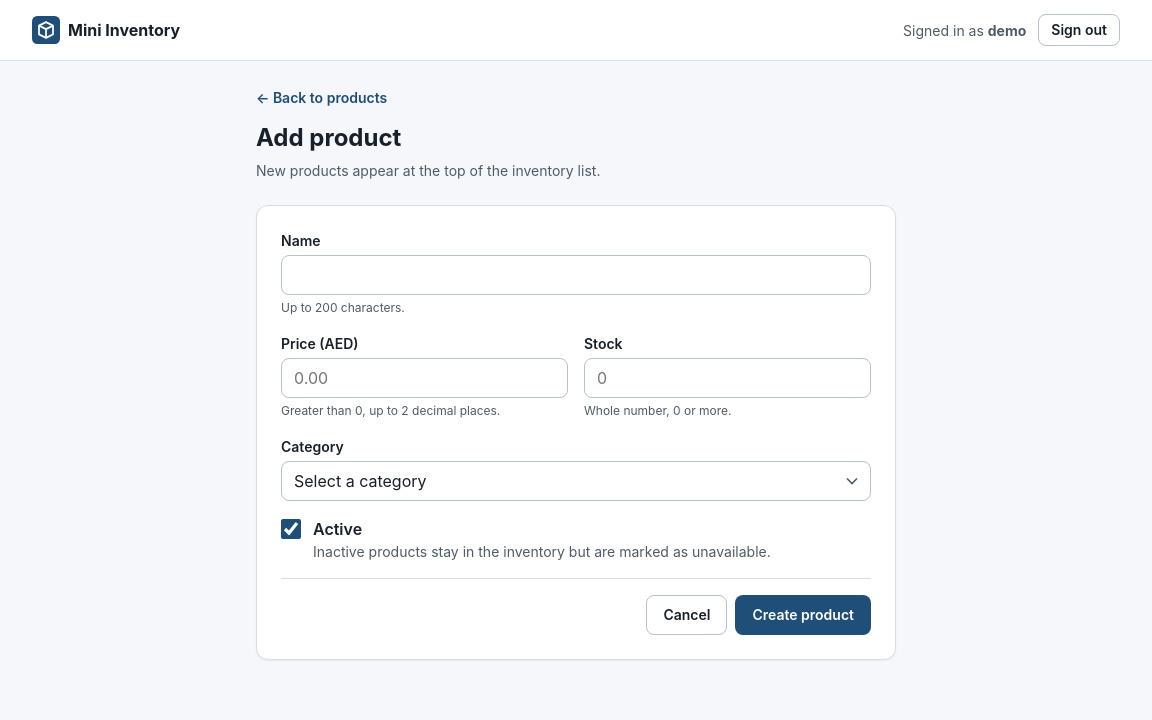
create product › sends a decimal-string price and integer stock/category, then shows success
The image size is (1152, 720).
Type "  Coffee Mug  " into the field labelled "Name" at (576, 275), box [281,255,871,295]
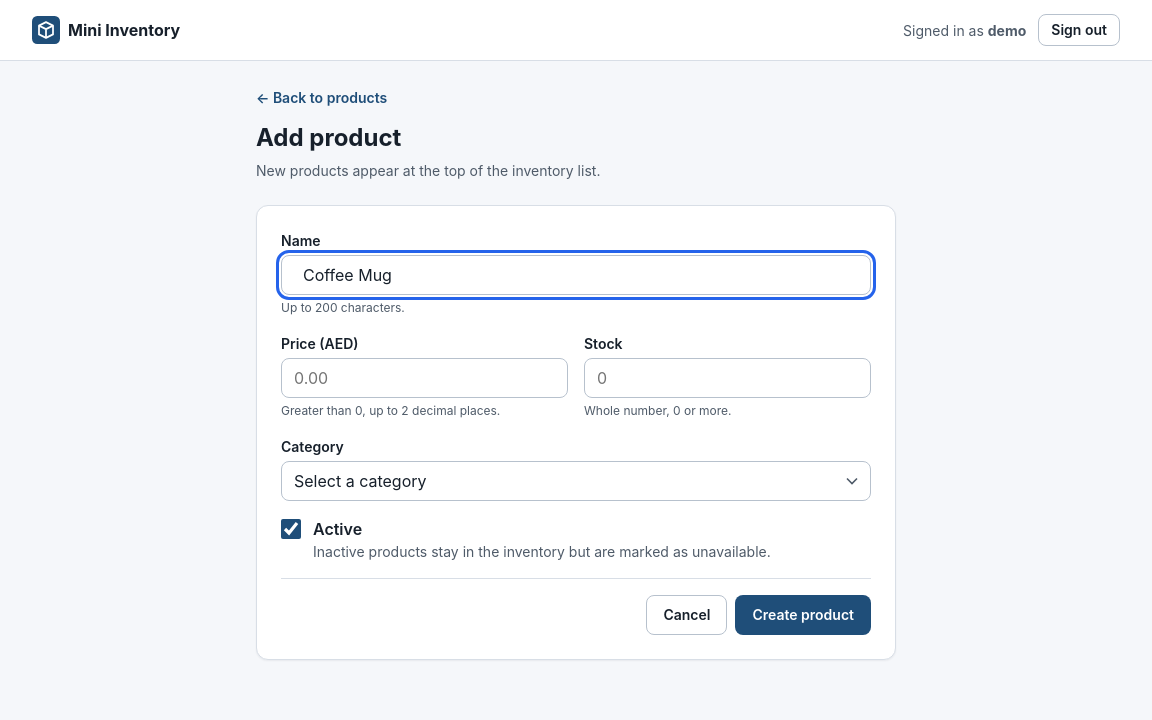
Type "24.5" into the field labelled "Price (AED)" at (424, 378), box [281,358,568,398]
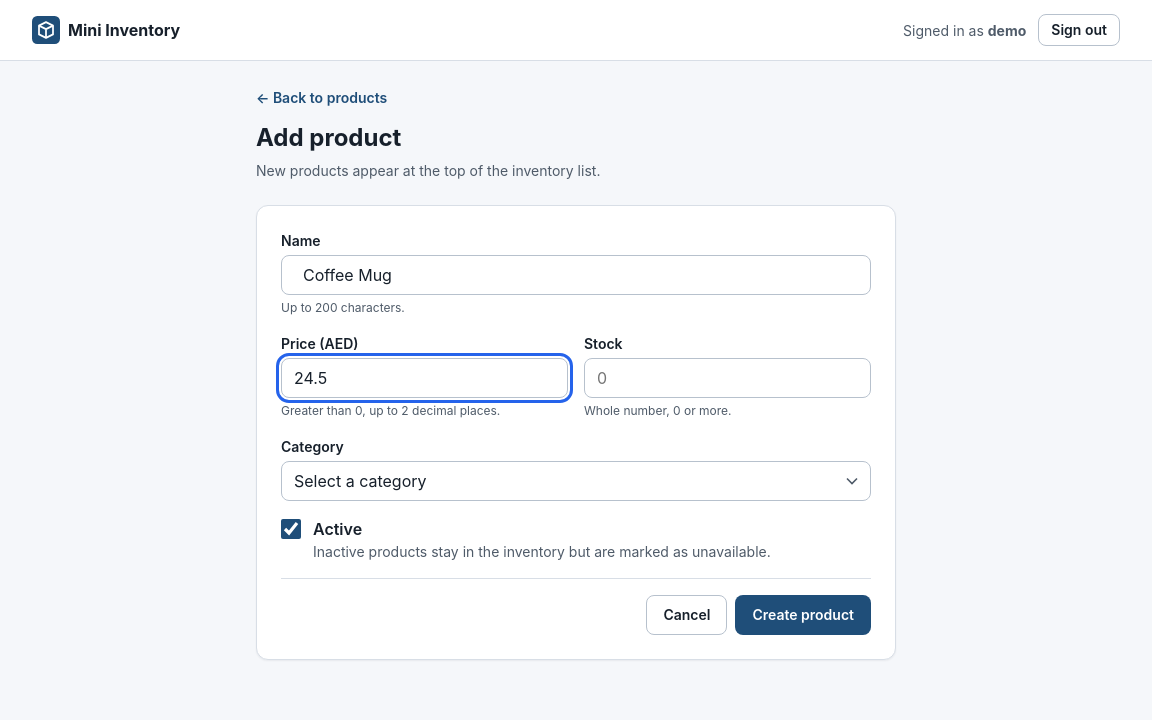
Type "40" into the field labelled "Stock" at (728, 378), box [584,358,871,398]
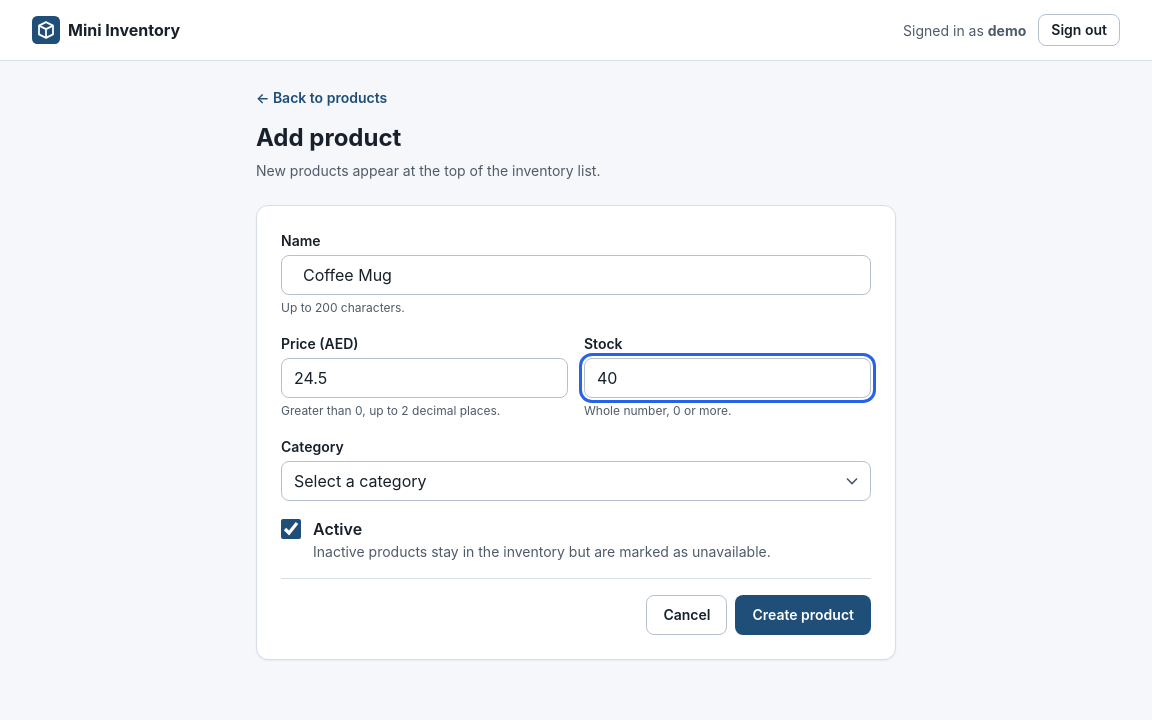
Select "Kitchen" in the dropdown labelled "Category" at (576, 481), box [281,461,871,501]
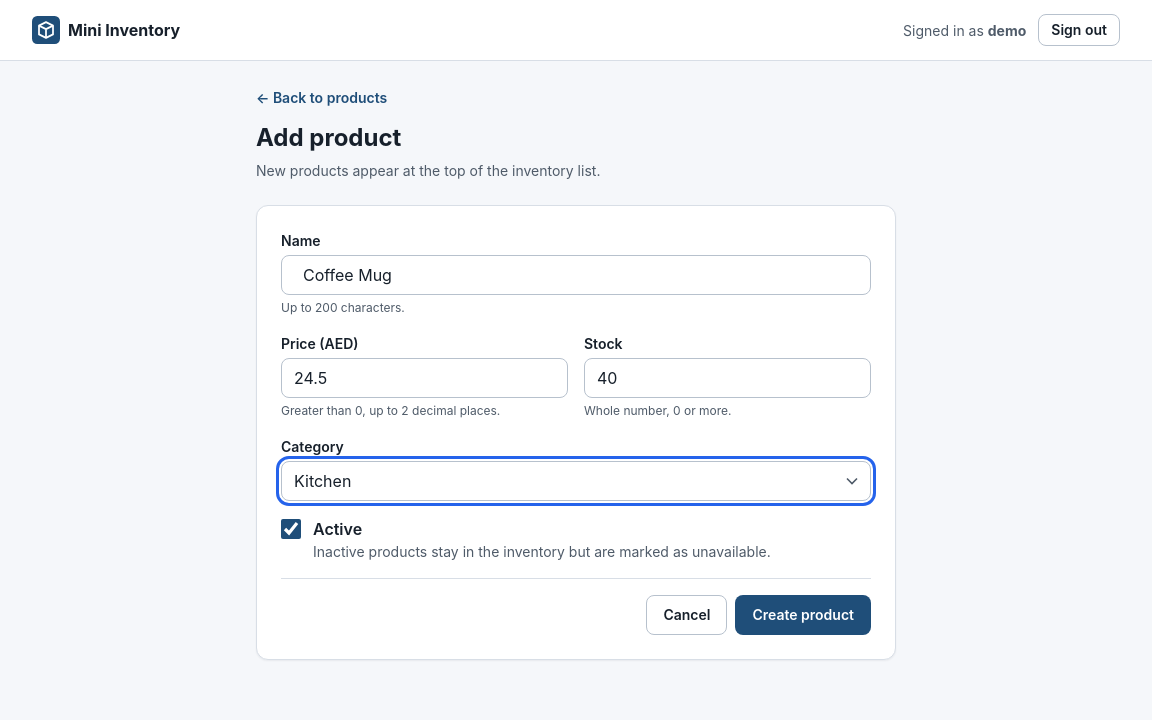
Click the checkbox labelled "Active" at (291, 529), box [281,519,301,539]
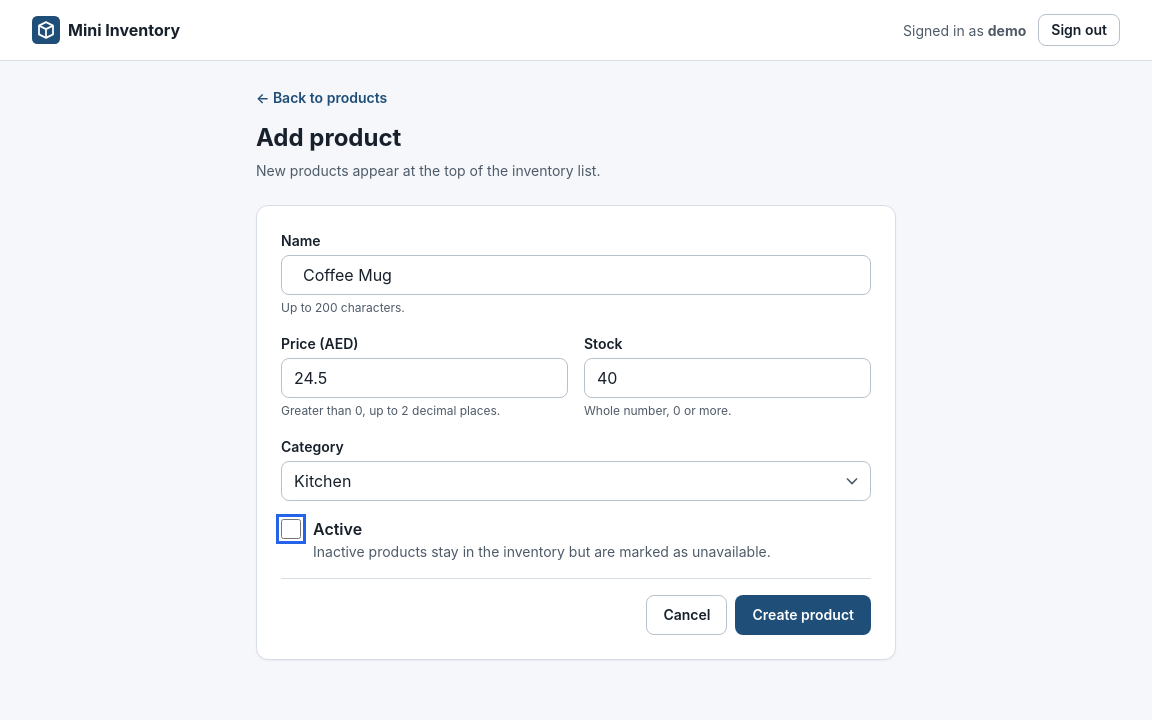
Click the button "Create product" at (803, 615), box [735,595,871,635]
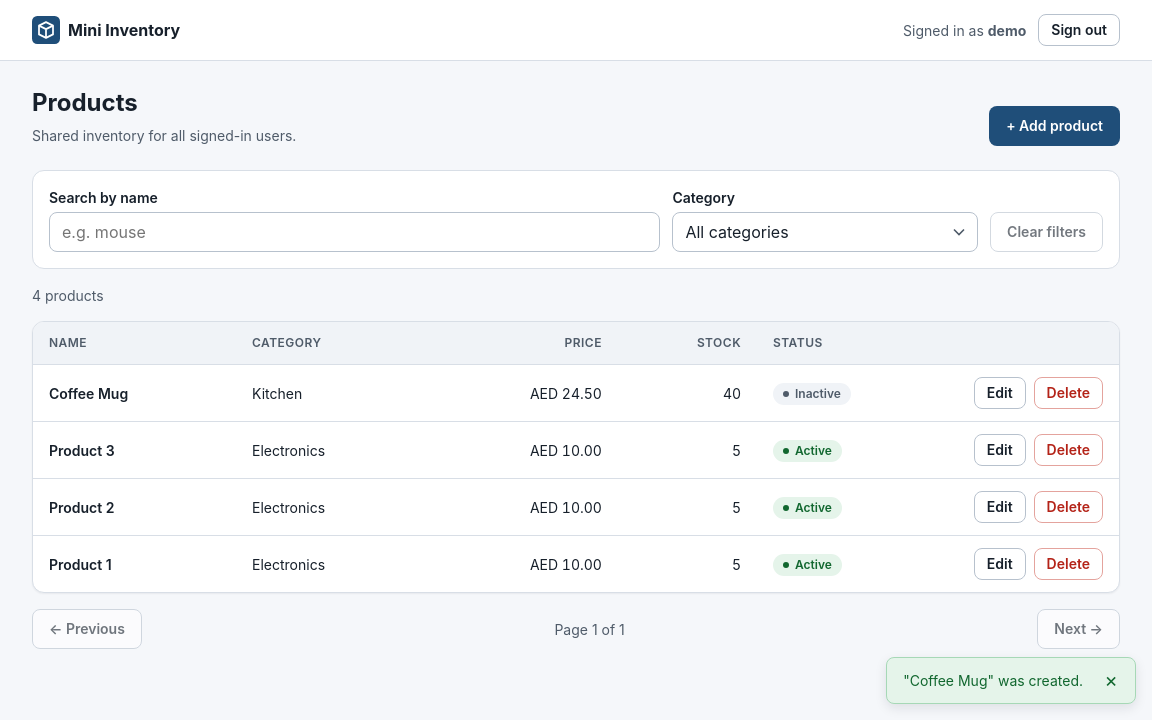
Expected: the text "\"Coffee Mug\" was created." is shown, [903,670,1083,691]
Expected: the text "Coffee Mug" is shown, [33,365,236,422]
